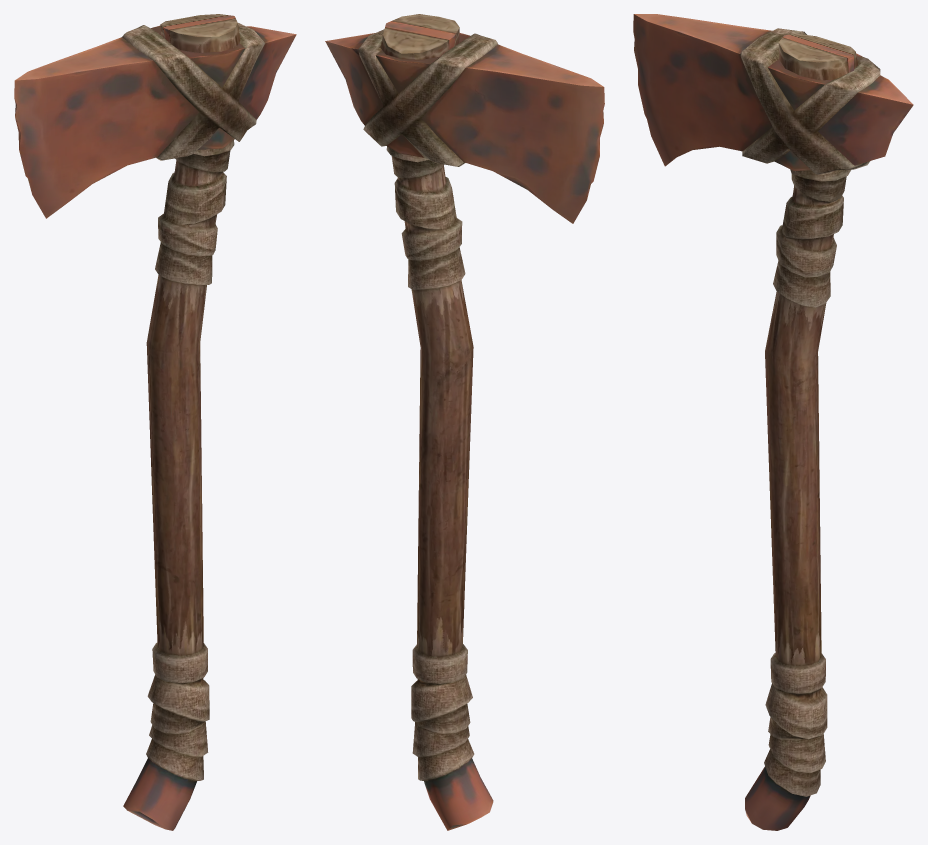
The picture shows the model from 3 angles, left to right: view 1: azimuth 30°, elevation 25°; view 2: azimuth 150°, elevation 25°; view 3: azimuth 330°, elevation 25°; orthographic projection.
Visible parts, largest first — view 1: SM_LoggingAxe_Refined_2H_01_LOD0; view 2: SM_LoggingAxe_Refined_2H_01_LOD0; view 3: SM_LoggingAxe_Refined_2H_01_LOD0.
Boxes of the visible parts, left/top/right/bottom form: SM_LoggingAxe_Refined_2H_01_LOD0: left=14, top=14, right=296, bottom=830; SM_LoggingAxe_Refined_2H_01_LOD0: left=325, top=14, right=604, bottom=830; SM_LoggingAxe_Refined_2H_01_LOD0: left=633, top=14, right=913, bottom=830.
Bounding box in the file's own units: 0.4124 × 1.11 × 0.1342.
1 material, 1 textured.
